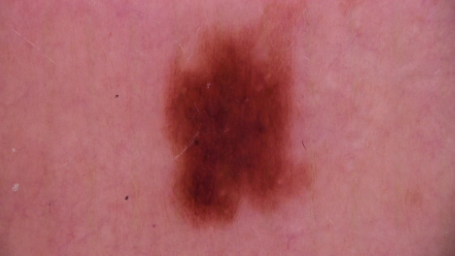nevus: (167, 33, 295, 225)
